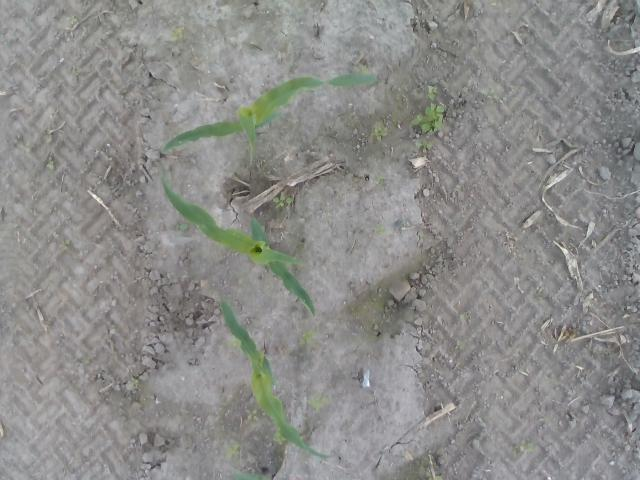Maize: (158, 167, 316, 317), (159, 69, 384, 168), (217, 298, 341, 460)
Weeds: (412, 104, 448, 152), (423, 454, 441, 480), (308, 393, 328, 414), (272, 191, 294, 210), (298, 329, 316, 349), (478, 88, 500, 102), (513, 442, 534, 456), (224, 444, 242, 460), (274, 430, 288, 446), (374, 127, 388, 142), (426, 86, 438, 102), (170, 27, 183, 41), (244, 409, 258, 422), (168, 223, 188, 232), (353, 66, 371, 74), (16, 142, 30, 152), (46, 158, 56, 170), (129, 376, 139, 388), (374, 227, 386, 236), (533, 289, 546, 297), (61, 240, 71, 250), (68, 14, 78, 24), (374, 175, 384, 185), (456, 340, 464, 352), (460, 313, 470, 322), (46, 134, 54, 144), (82, 357, 90, 365), (454, 186, 462, 193), (416, 234, 424, 240), (70, 74, 77, 80)
